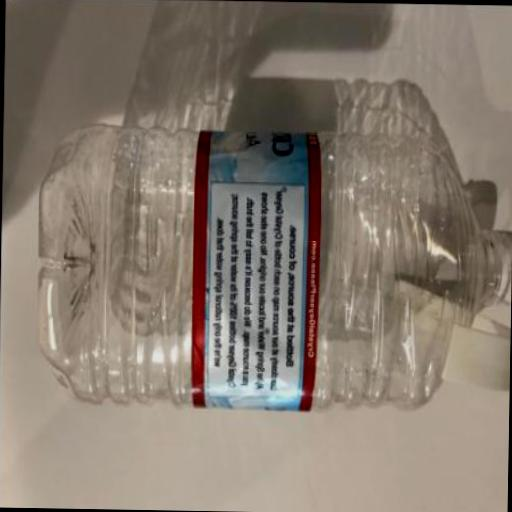plastic: (37, 120, 512, 409), (190, 128, 324, 408)
